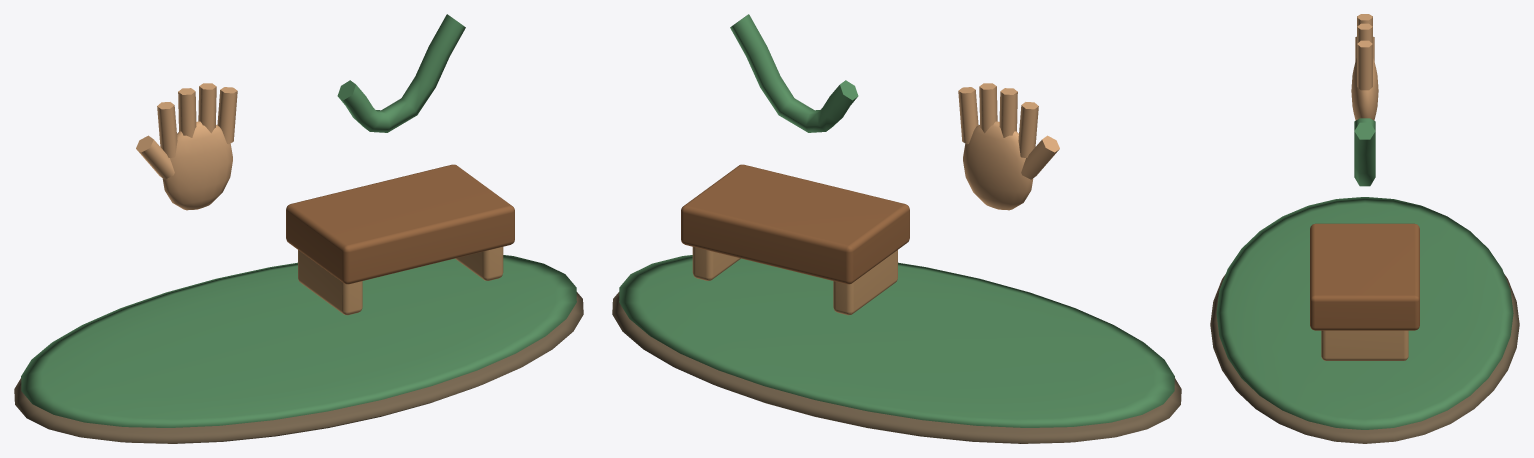
The model's file is complete-second-willing-fixed.glb.
The picture shows the model from 3 angles, left to right: view 1: azimuth 30°, elevation 25°; view 2: azimuth 150°, elevation 25°; view 3: azimuth 270°, elevation 25°; orthographic projection. The views are drawn at different scales.
Visible parts, largest first — view 1: complete-second-willing-fixed_surface_01, complete-second-willing-fixed_surface_03, complete-second-willing-fixed_surface_00, complete-second-willing-fixed_surface_02, complete-second-willing-fixed_surface_04; view 2: complete-second-willing-fixed_surface_01, complete-second-willing-fixed_surface_03, complete-second-willing-fixed_surface_00, complete-second-willing-fixed_surface_02, complete-second-willing-fixed_surface_04; view 3: complete-second-willing-fixed_surface_01, complete-second-willing-fixed_surface_03, complete-second-willing-fixed_surface_00, complete-second-willing-fixed_surface_04, complete-second-willing-fixed_surface_02.
Part boxes in pixels (left/top/right/bottom): complete-second-willing-fixed_surface_01: left=21, top=14, right=576, bottom=427; complete-second-willing-fixed_surface_03: left=286, top=164, right=514, bottom=284; complete-second-willing-fixed_surface_00: left=14, top=292, right=583, bottom=443; complete-second-willing-fixed_surface_02: left=136, top=83, right=237, bottom=210; complete-second-willing-fixed_surface_04: left=298, top=247, right=503, bottom=315; complete-second-willing-fixed_surface_01: left=619, top=14, right=1174, bottom=427; complete-second-willing-fixed_surface_03: left=681, top=164, right=909, bottom=284; complete-second-willing-fixed_surface_00: left=612, top=292, right=1181, bottom=443; complete-second-willing-fixed_surface_02: left=958, top=83, right=1059, bottom=210; complete-second-willing-fixed_surface_04: left=692, top=247, right=897, bottom=315; complete-second-willing-fixed_surface_01: left=1216, top=118, right=1513, bottom=429; complete-second-willing-fixed_surface_03: left=1310, top=223, right=1419, bottom=330; complete-second-willing-fixed_surface_00: left=1210, top=274, right=1519, bottom=443; complete-second-willing-fixed_surface_04: left=1321, top=330, right=1408, bottom=360; complete-second-willing-fixed_surface_02: left=1351, top=14, right=1378, bottom=120.
Bounding box in the file's own units: 4.56 × 2.52 × 2.5.
